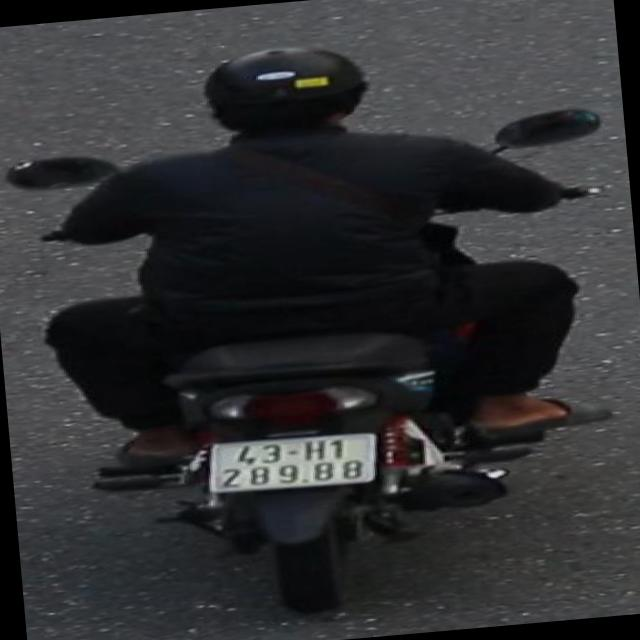LP: (202, 426, 388, 502)
helmet: (192, 33, 380, 150)
